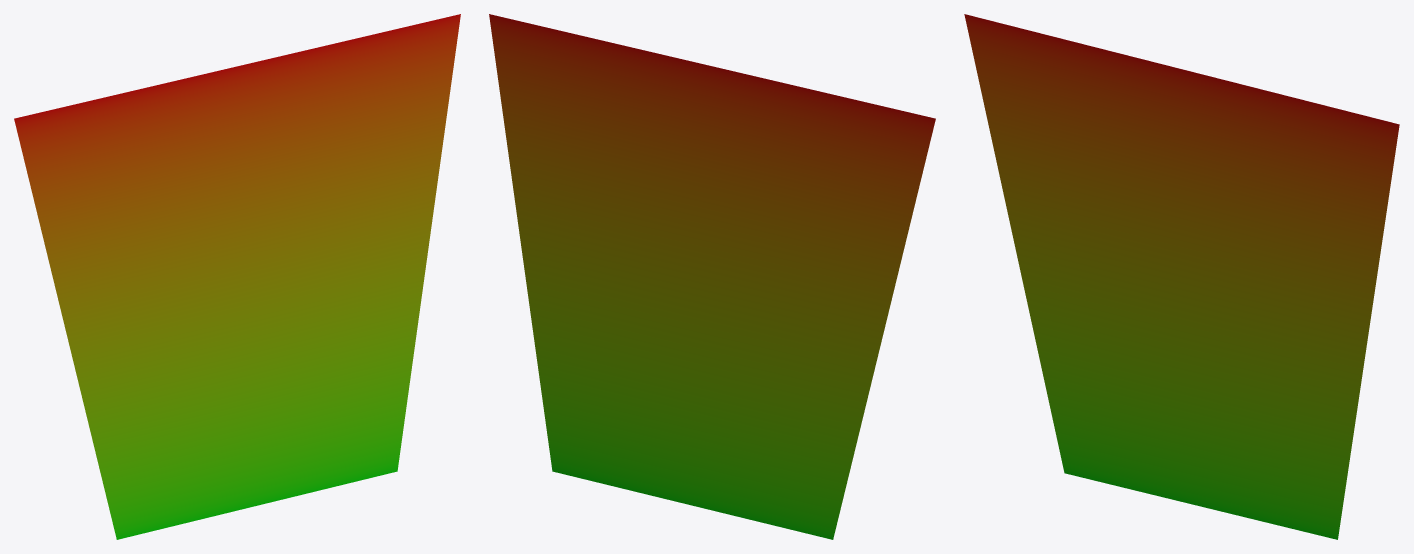
Rendered from Cast - Iron Plant_LOD3_Var1_shdmr.fbx.
The picture shows the model from 3 angles, left to right: view 1: azimuth 30°, elevation 25°; view 2: azimuth 150°, elevation 25°; view 3: azimuth 330°, elevation 25°; orthographic projection. The views are drawn at different scales.
Visible parts, largest first — view 1: _1fc7_Var1_LOD3; view 2: _1fc7_Var1_LOD3; view 3: _1fc7_Var1_LOD3.
Part boxes in pixels (box(x1,y1,x2,y2)): _1fc7_Var1_LOD3: box(14, 14, 460, 539); _1fc7_Var1_LOD3: box(489, 14, 935, 539); _1fc7_Var1_LOD3: box(964, 14, 1399, 539).
Size of the model in its own units: 80.86 by 77.18 by 1.33e-05.
